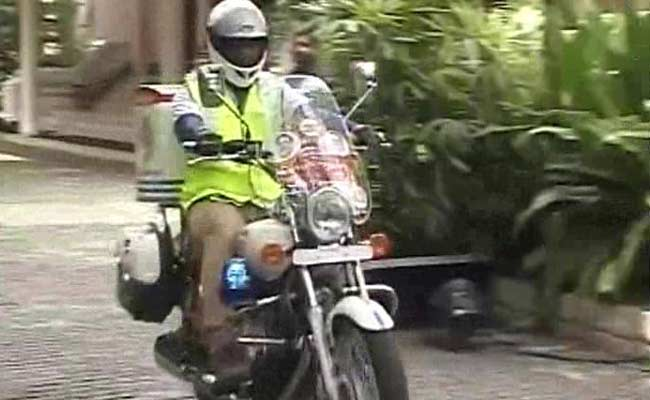helmet: (206, 1, 270, 75)
